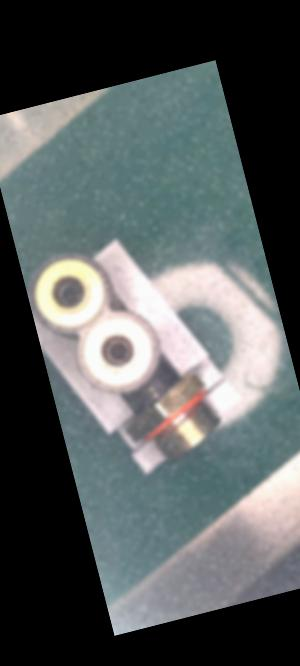craze: (145, 379, 162, 404)
